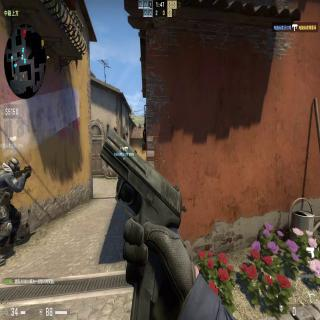CT-Body: (0, 156, 26, 268)
CT-Head: (7, 156, 20, 177)
